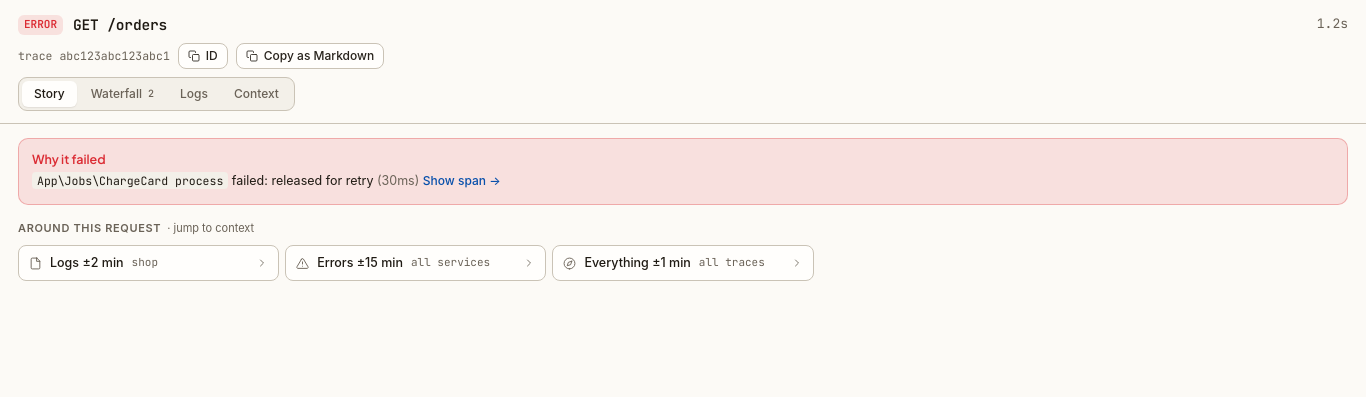
it: the trace drawer › why it failed › says what a failed span gave as its reason when it carries no exception
The image size is (1366, 397).
Click the button "Show span →" at {"x": 462, "y": 181}, box x1=423 y1=172 x2=501 y2=190
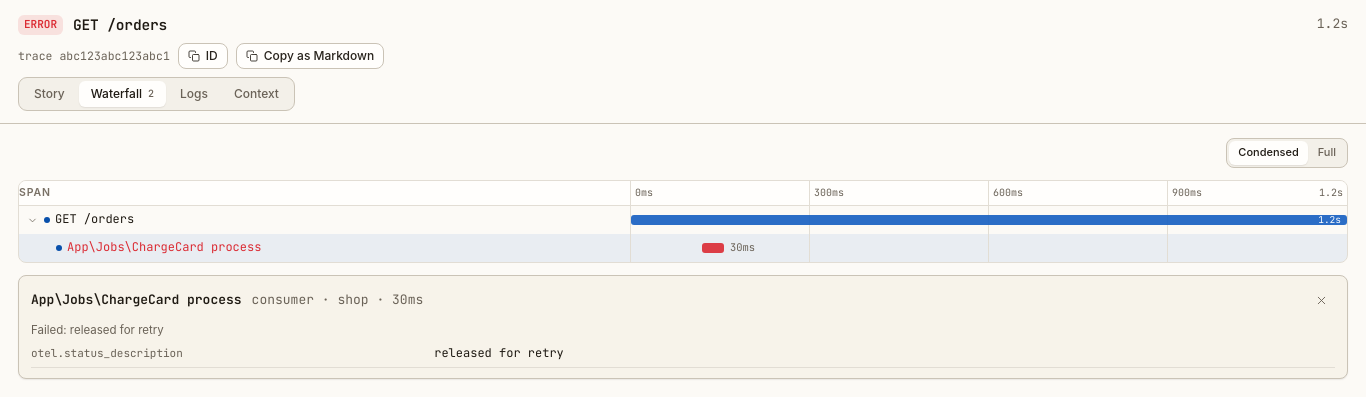
Result: the element with class "t-spandetail" shows "Failed: released for retry" at x1=18 y1=275 x2=1348 y2=379
